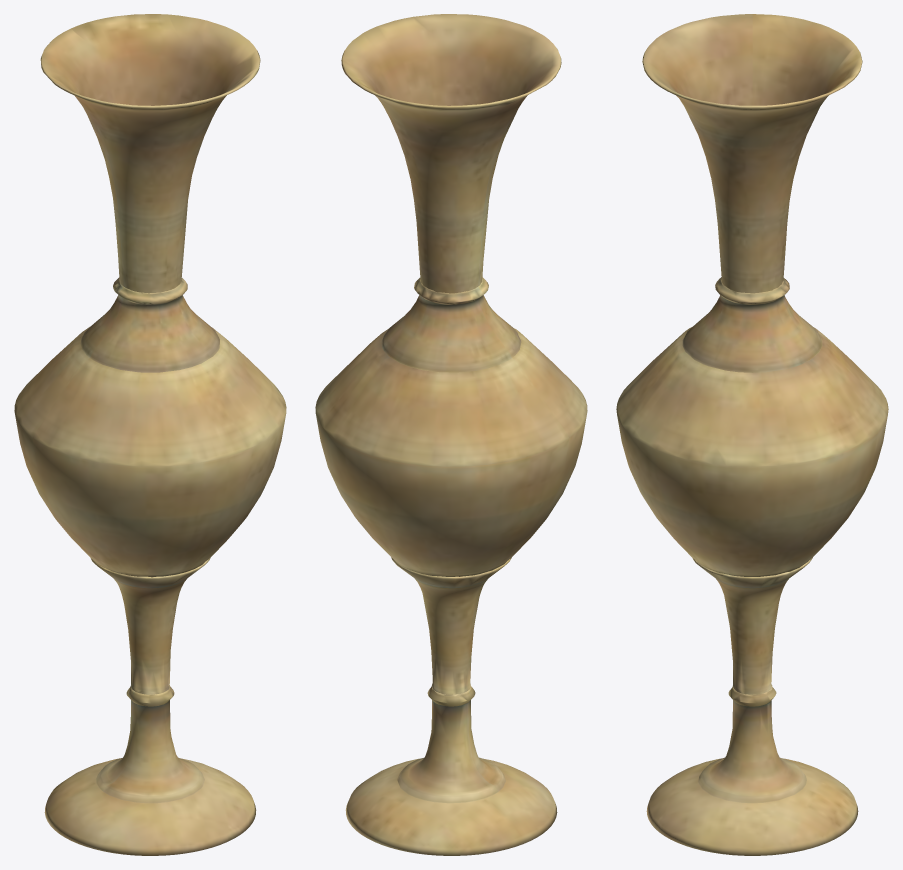
Rendered from brass_vase_01.glb.
The picture shows the model from 3 angles, left to right: view 1: azimuth 30°, elevation 25°; view 2: azimuth 150°, elevation 25°; view 3: azimuth 270°, elevation 25°; orthographic projection.
Parts seen in each view (by area): view 1: brass_vase_01; view 2: brass_vase_01; view 3: brass_vase_01.
Part boxes in pixels (x1=…): brass_vase_01: x1=14, y1=14, x2=286, y2=855; brass_vase_01: x1=315, y1=14, x2=587, y2=855; brass_vase_01: x1=616, y1=14, x2=888, y2=855.
Size of the model in its own units: 0.2272 by 0.6925 by 0.2272.
1 material, 1 textured.
